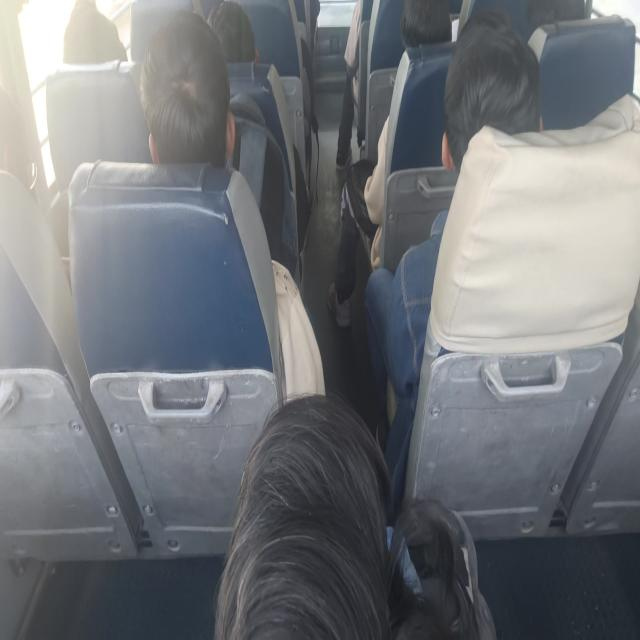person: (218, 384, 507, 640), (444, 18, 534, 186), (130, 44, 239, 174), (0, 80, 41, 198), (195, 0, 267, 64), (57, 0, 125, 66), (392, 0, 452, 65)
